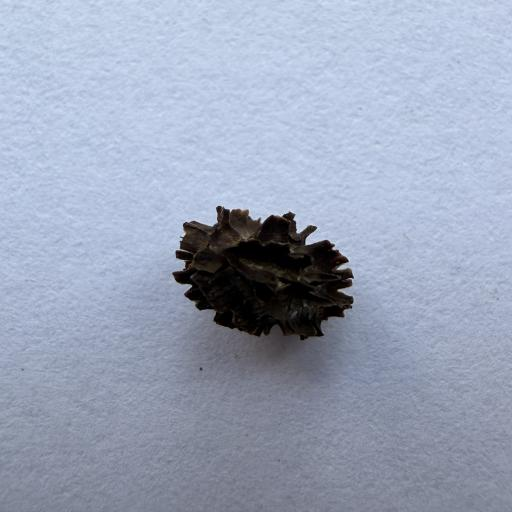papaya_seed: (162, 195, 382, 355)
